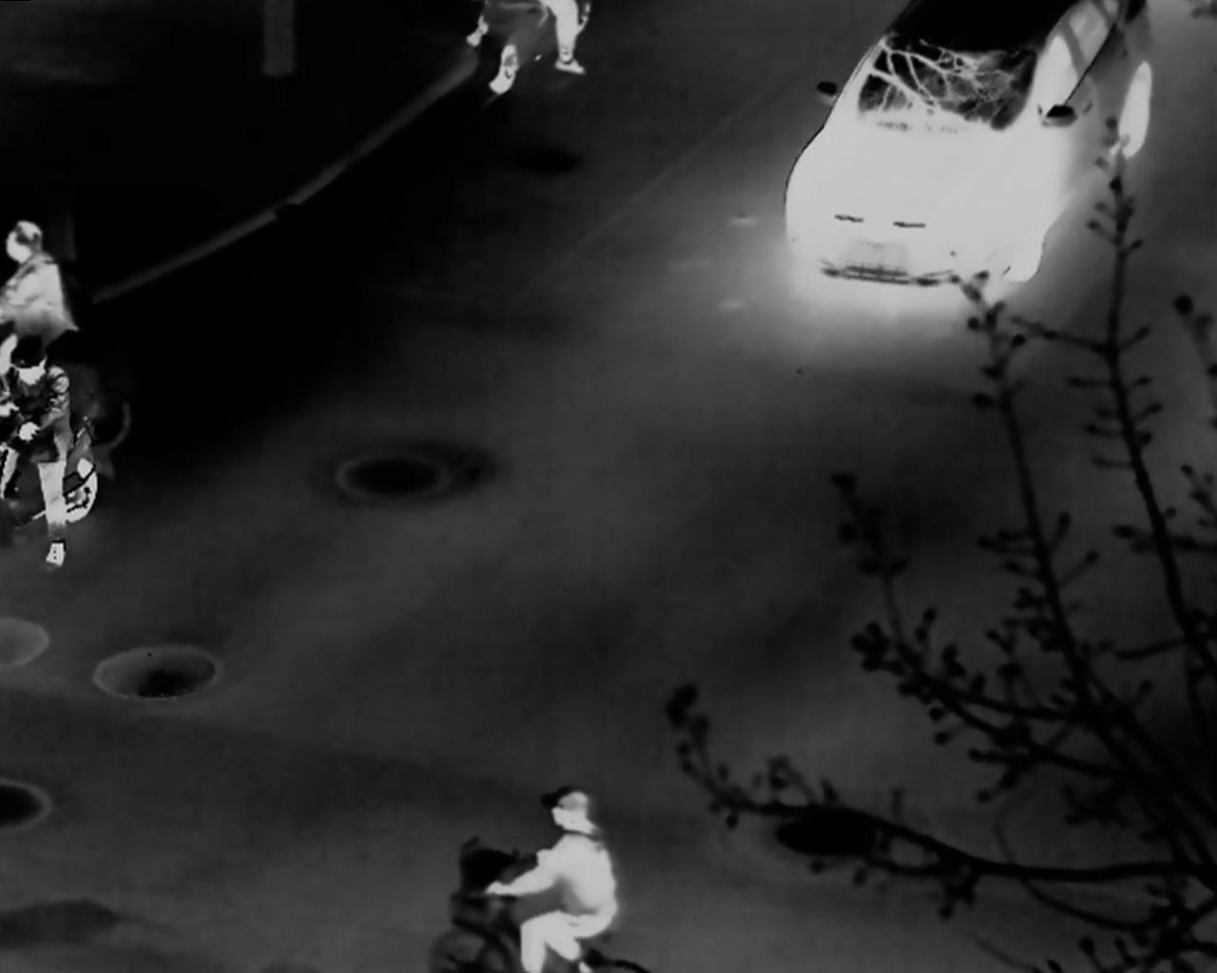person: (480, 784, 619, 973), (2, 220, 78, 338)
